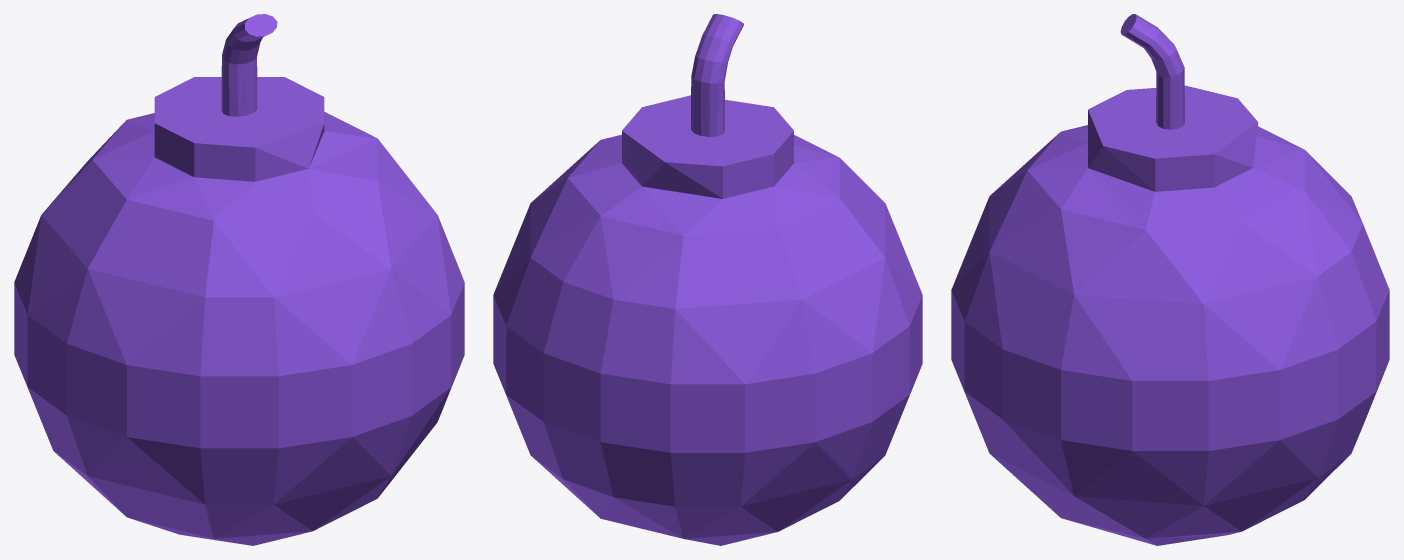
Rendered from bomba.obj.
The picture shows the model from 3 angles, left to right: view 1: azimuth 30°, elevation 25°; view 2: azimuth 150°, elevation 25°; view 3: azimuth 270°, elevation 25°; orthographic projection. The views are drawn at different scales.
Visible parts, largest first — view 1: bomba; view 2: bomba; view 3: bomba.
Part boxes in pixels (<box>): bomba: <box>14,14,464,545</box>; bomba: <box>493,14,922,545</box>; bomba: <box>951,14,1389,545</box>.
Bounding box in the file's own units: 3.06 × 3.99 × 3.11.
